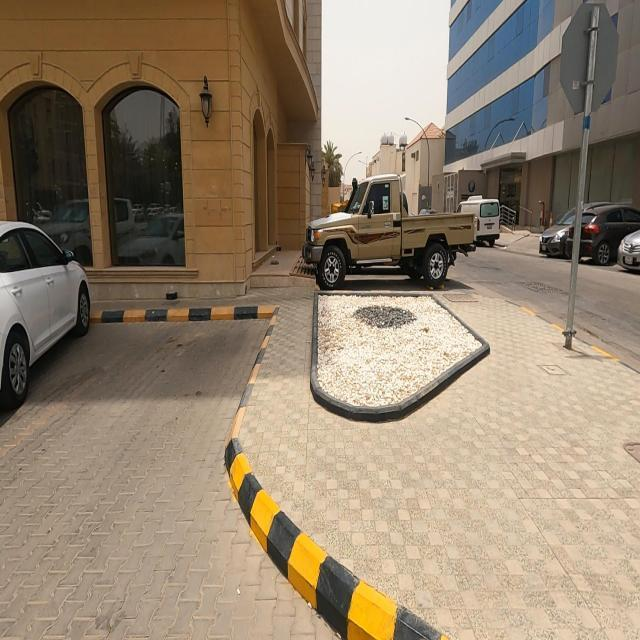debris: (150, 268, 192, 326), (250, 243, 294, 284)
